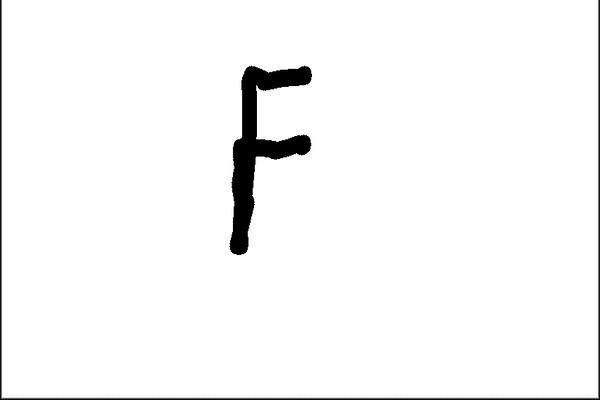F: (224, 59, 320, 259)
